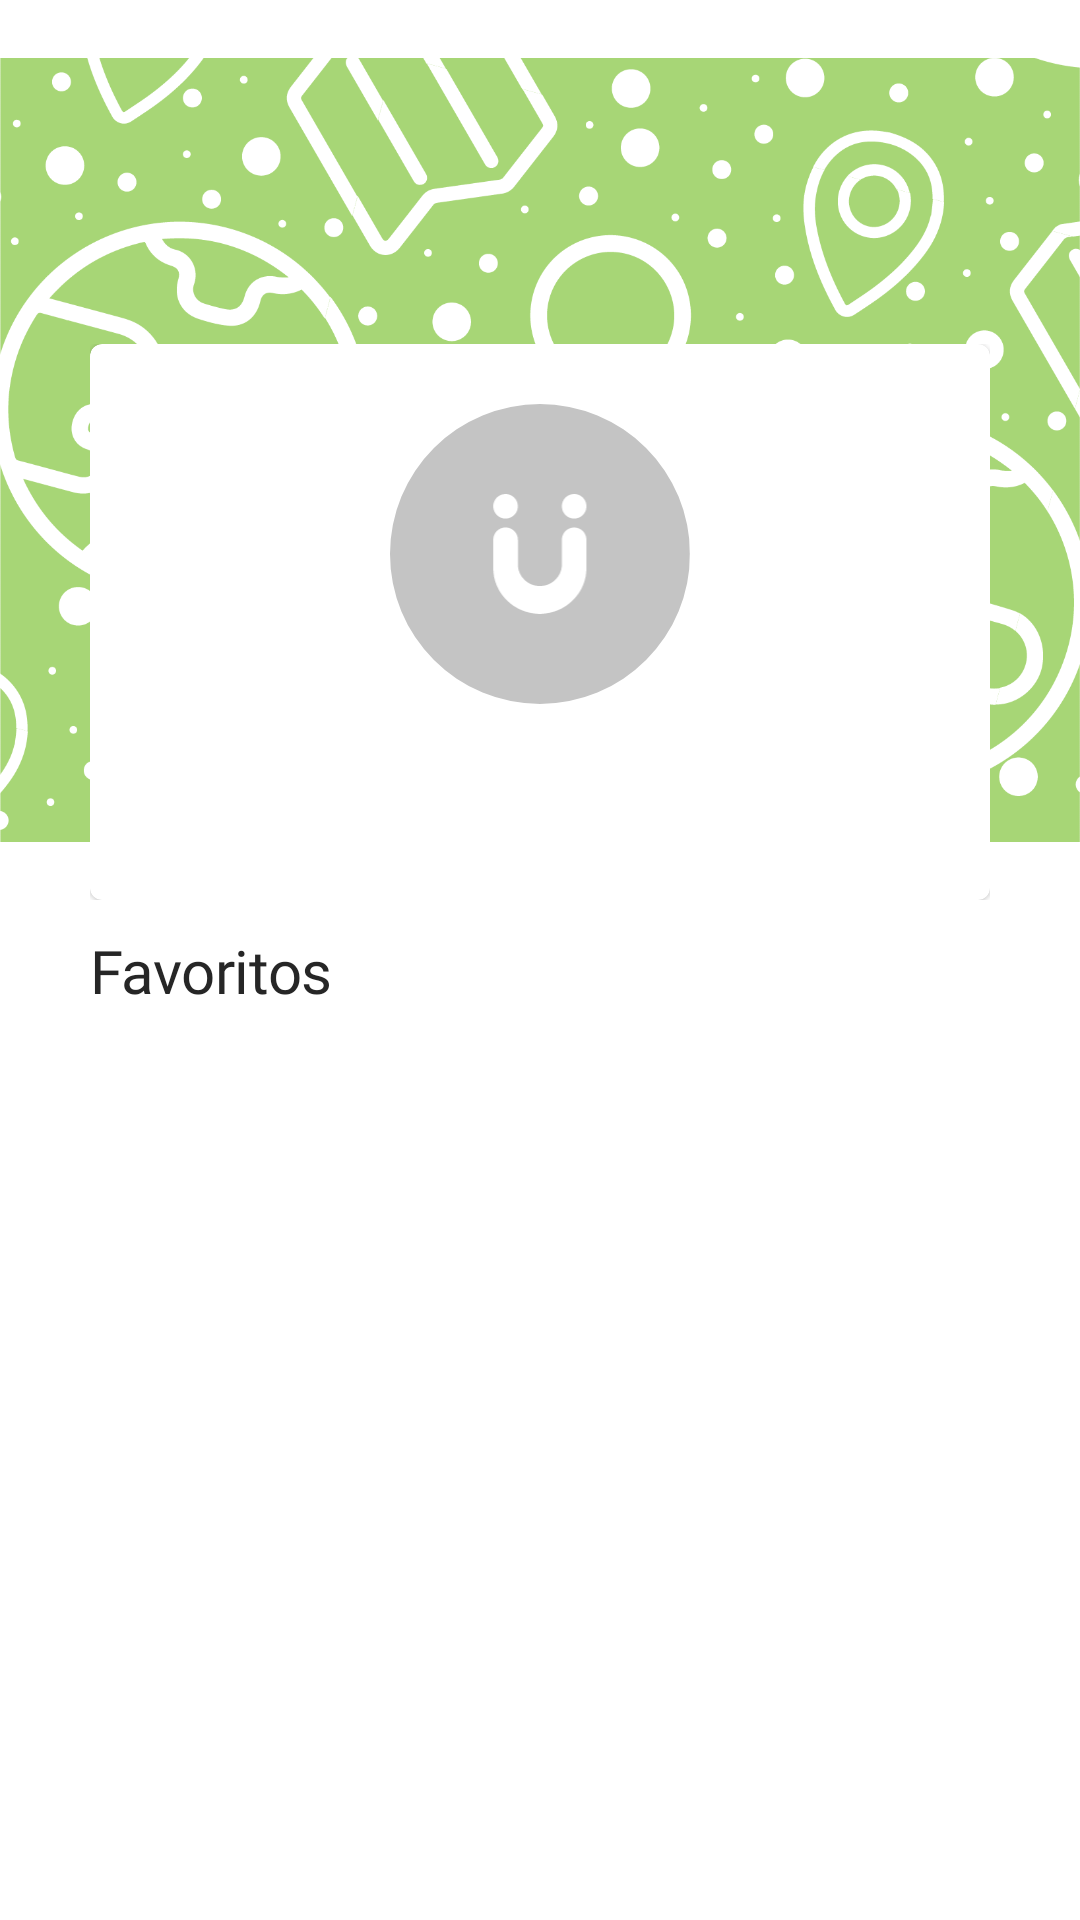

Where to tap for icons on this 1080×1920 app screen, as (x,y):
Icono del Usuario: (540,554)
